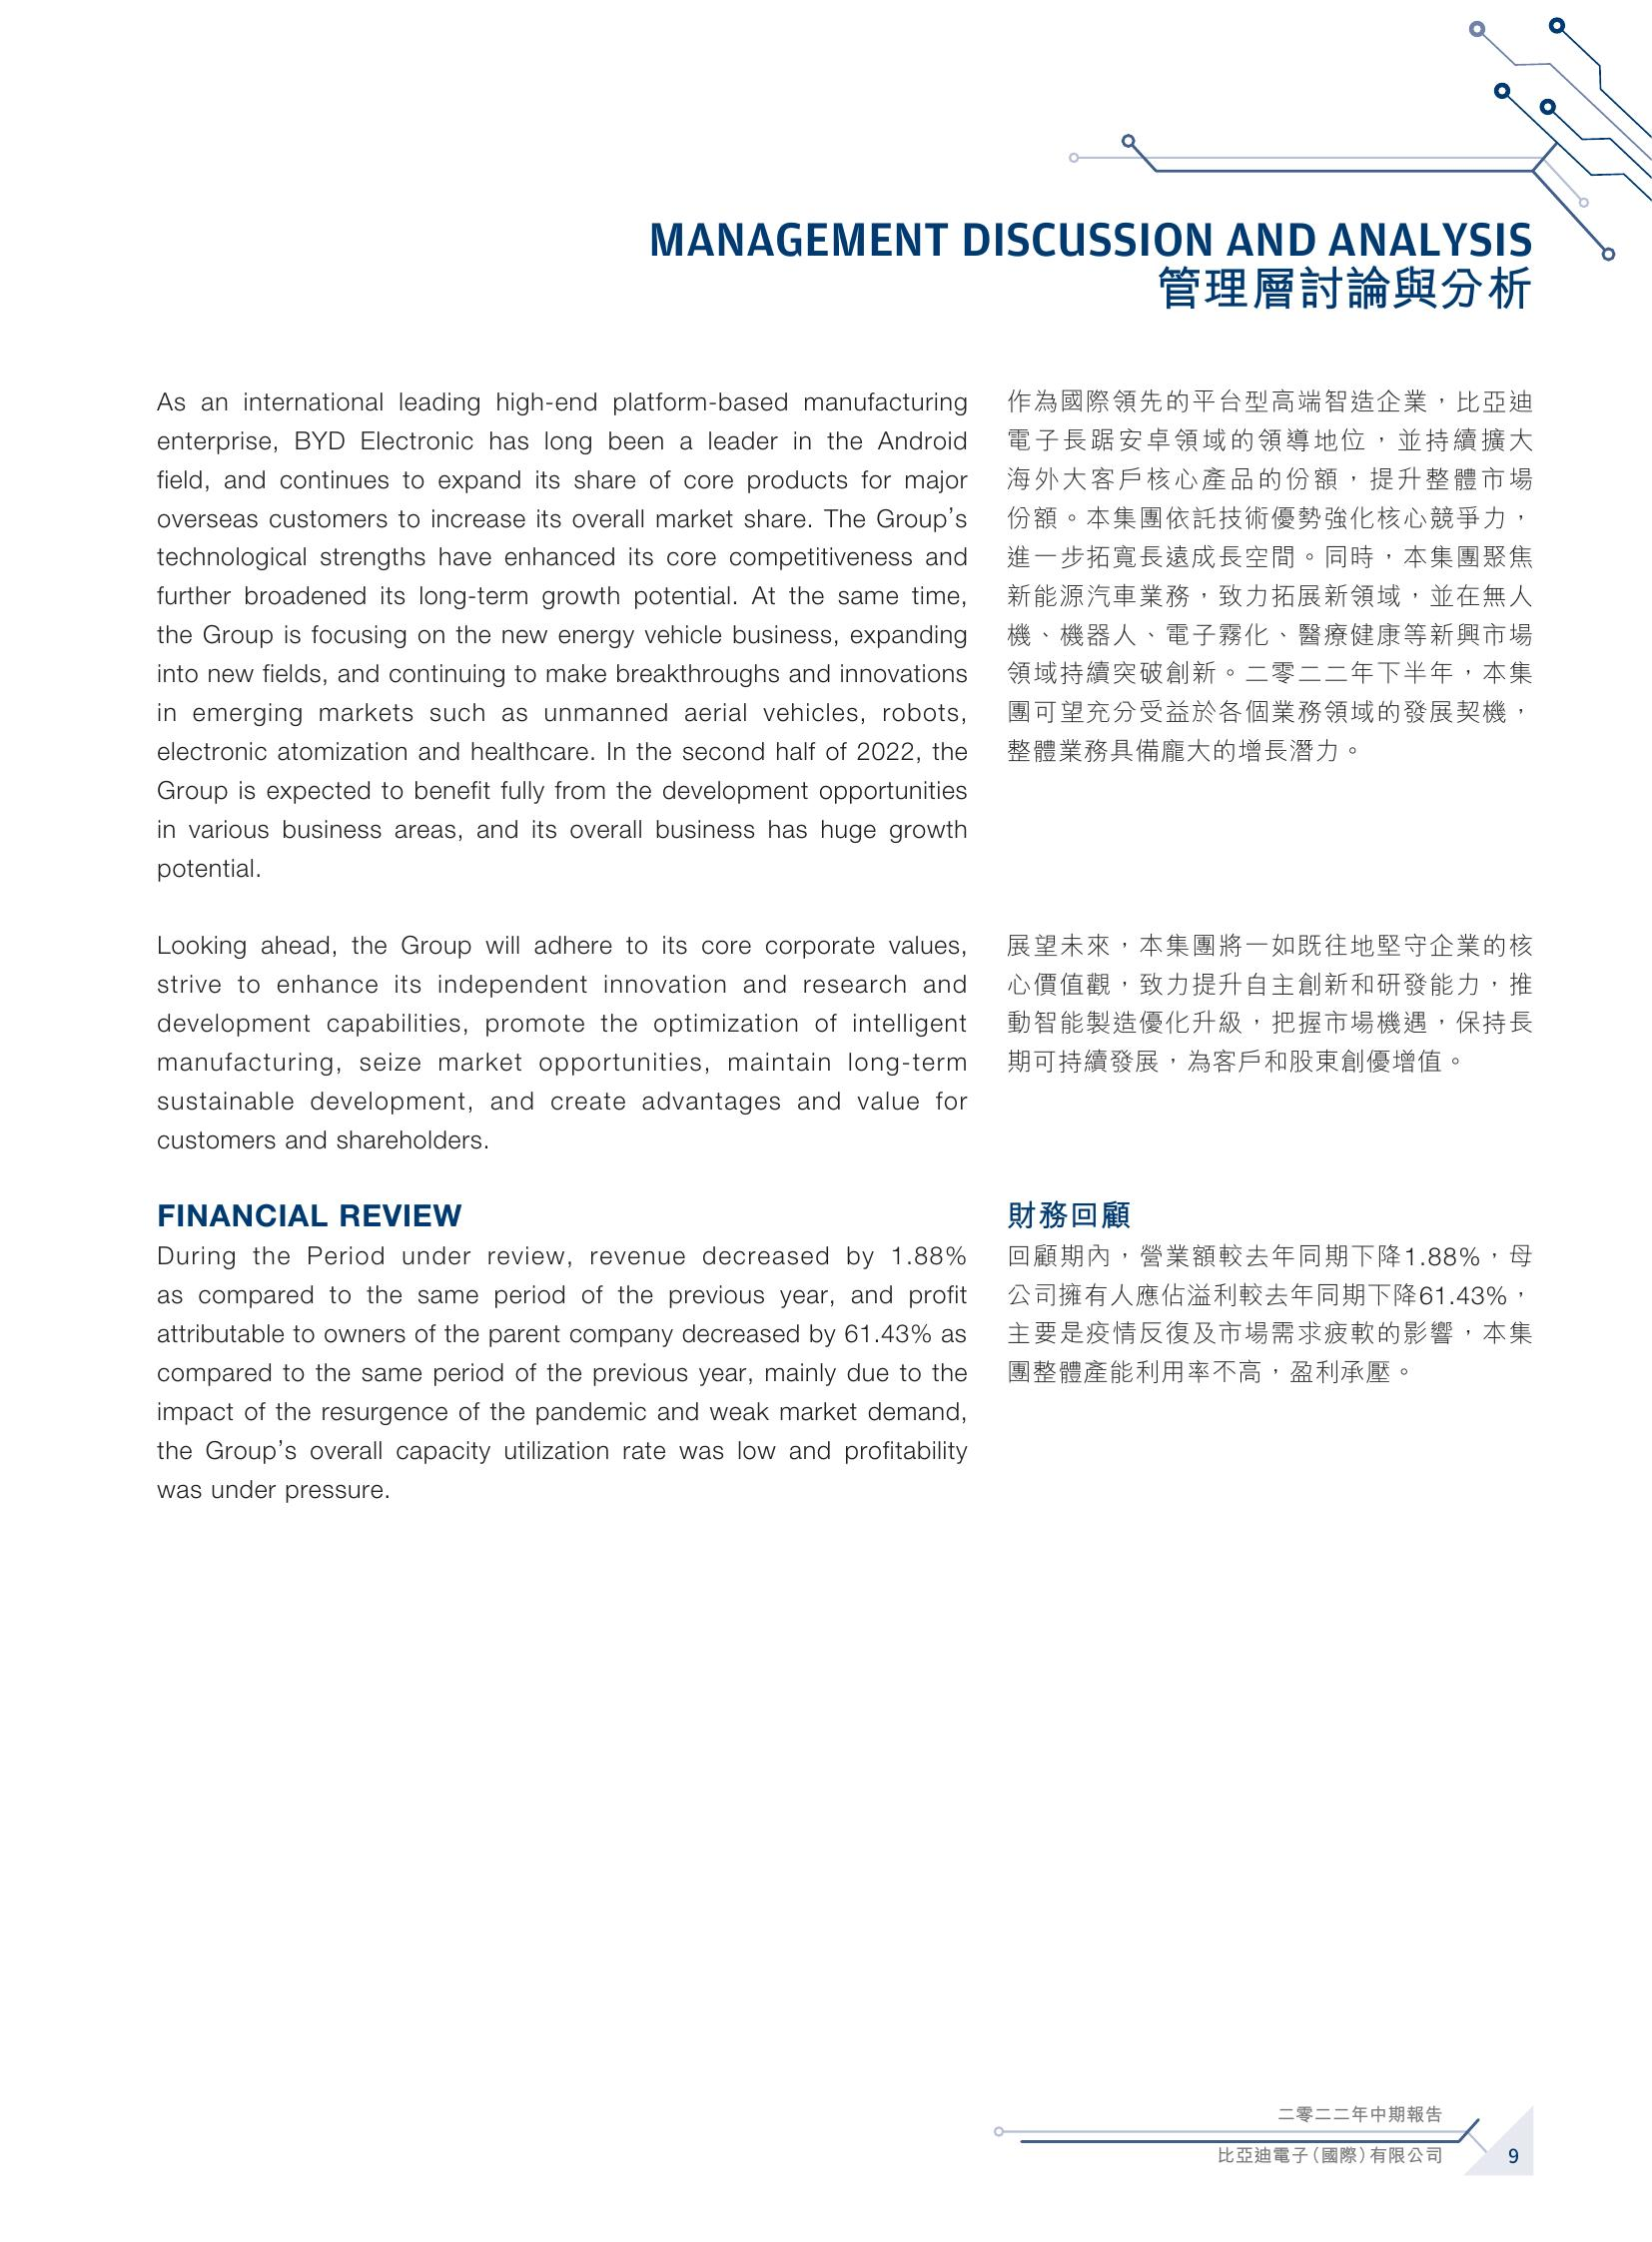Footer: (0, 2094, 1652, 2242)
Header: (0, 0, 1652, 205)
